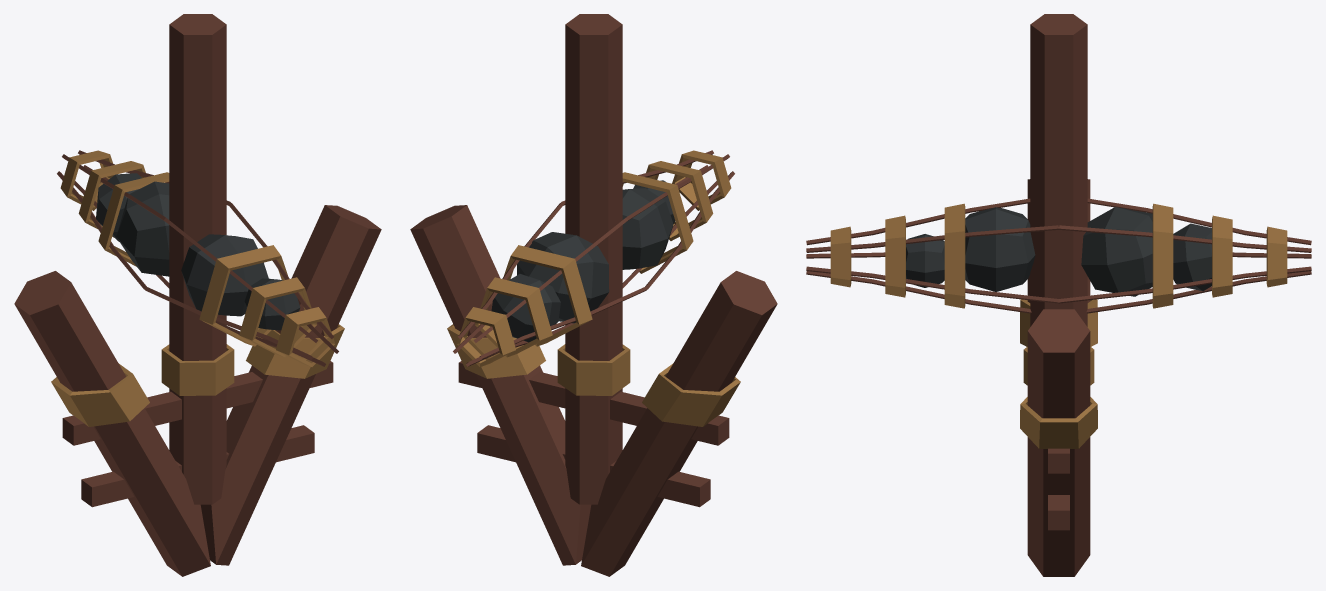
The model's file is anchor.glb.
3 renders of one model, left to right at view 1: azimuth 30°, elevation 25°; view 2: azimuth 150°, elevation 25°; view 3: azimuth 270°, elevation 25°, orthographic.
Parts seen in each view (by area): view 1: anchor_body, rope_01, rope_02, weight_rock_01, weight_rock_02, rock_tie, weight_rock_03, weight_rock_04; view 2: anchor_body, rope_01, rope_02, rock_tie, weight_rock_01, weight_rock_02, weight_rock_04; view 3: anchor_body, rope_01, rock_tie, weight_rock_01, weight_rock_02, rope_02, weight_rock_04, weight_rock_03.
Part boxes in pixels (x1,y1,x2,y2): anchor_body: (14,14,381,576); rope_01: (60,150,335,366); rope_02: (51,324,344,426); weight_rock_01: (116,181,169,276); weight_rock_02: (181,234,268,316); rock_tie: (57,150,338,366); weight_rock_03: (244,278,300,330); weight_rock_04: (96,173,141,241); anchor_body: (410,14,777,576); rope_01: (456,150,731,366); rope_02: (447,324,740,426); rock_tie: (453,150,734,366); weight_rock_01: (517,232,609,323); weight_rock_02: (622,188,673,269); weight_rock_04: (491,274,560,342); anchor_body: (1027,14,1090,576); rope_01: (830,203,1287,308); rock_tie: (806,198,1311,313); weight_rock_01: (1081,207,1152,296); weight_rock_02: (965,207,1035,291); rope_02: (1020,299,1097,448); weight_rock_04: (1173,223,1211,291); weight_rock_03: (906,234,944,287).
Bounding box in the file's own units: 1.61 × 2.37 × 2.
